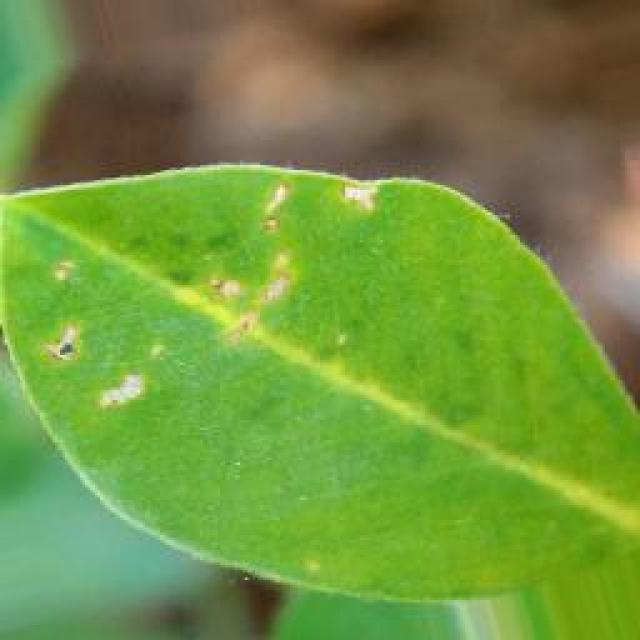Yellow_and_black_sigatoka: (1, 168, 640, 622)
